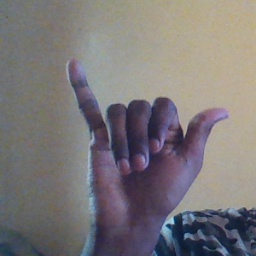J: (64, 56, 230, 233)
